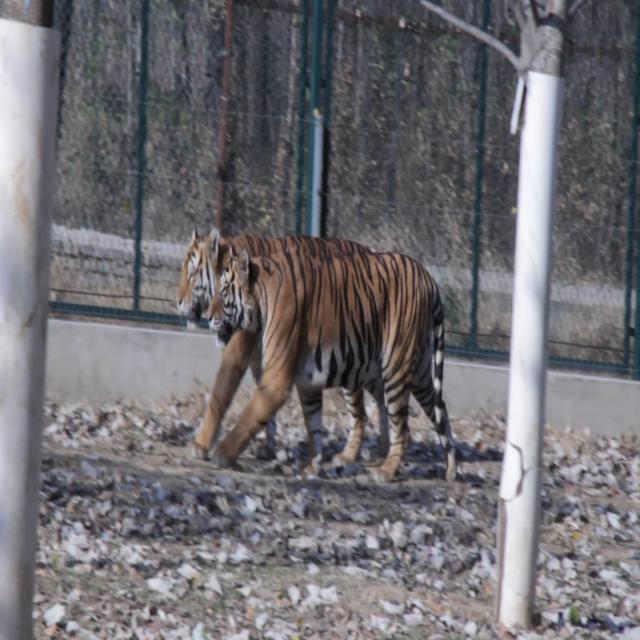Tiger: (207, 243, 467, 488), (162, 209, 376, 327)
